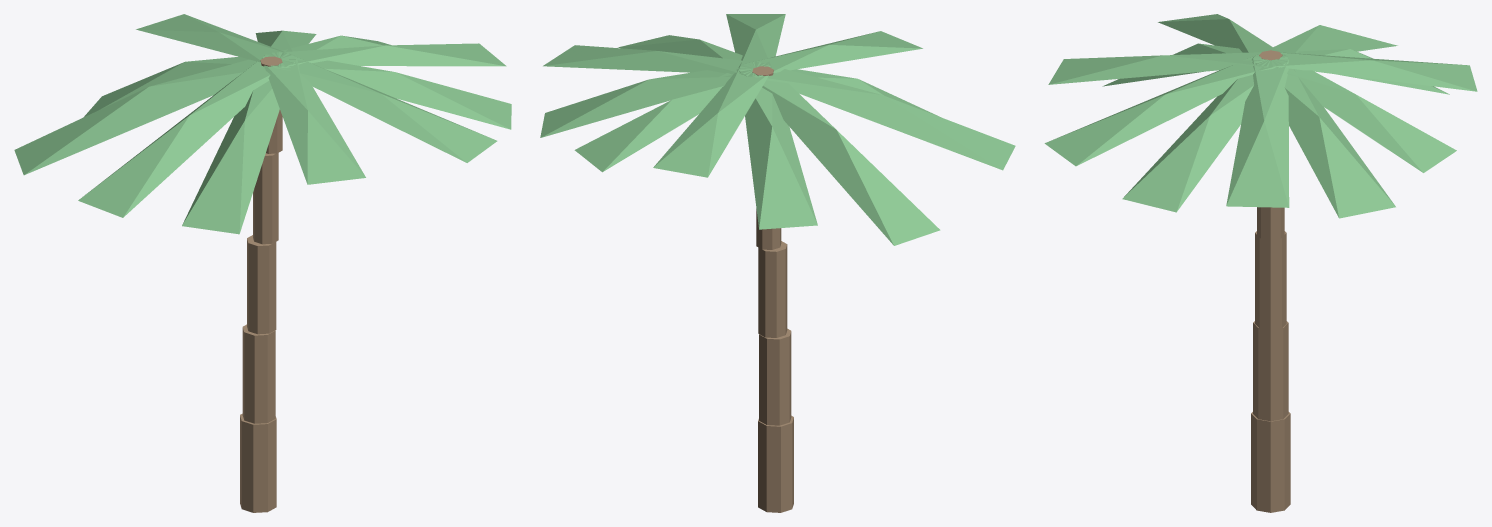
Rendered from Prop_Palm.fbx.
3 renders of one model, left to right at view 1: azimuth 30°, elevation 25°; view 2: azimuth 150°, elevation 25°; view 3: azimuth 270°, elevation 25°, orthographic. The views are drawn at different scales.
Visible parts, largest first — view 1: Prop_Palm; view 2: Prop_Palm; view 3: Prop_Palm.
Boxes of the visible parts, x1,y1,x2,y2 form: Prop_Palm: [14, 14, 511, 512]; Prop_Palm: [540, 14, 1015, 512]; Prop_Palm: [1044, 14, 1477, 512].
Size of the model in its own units: 5.28 by 5.1 by 4.39.
